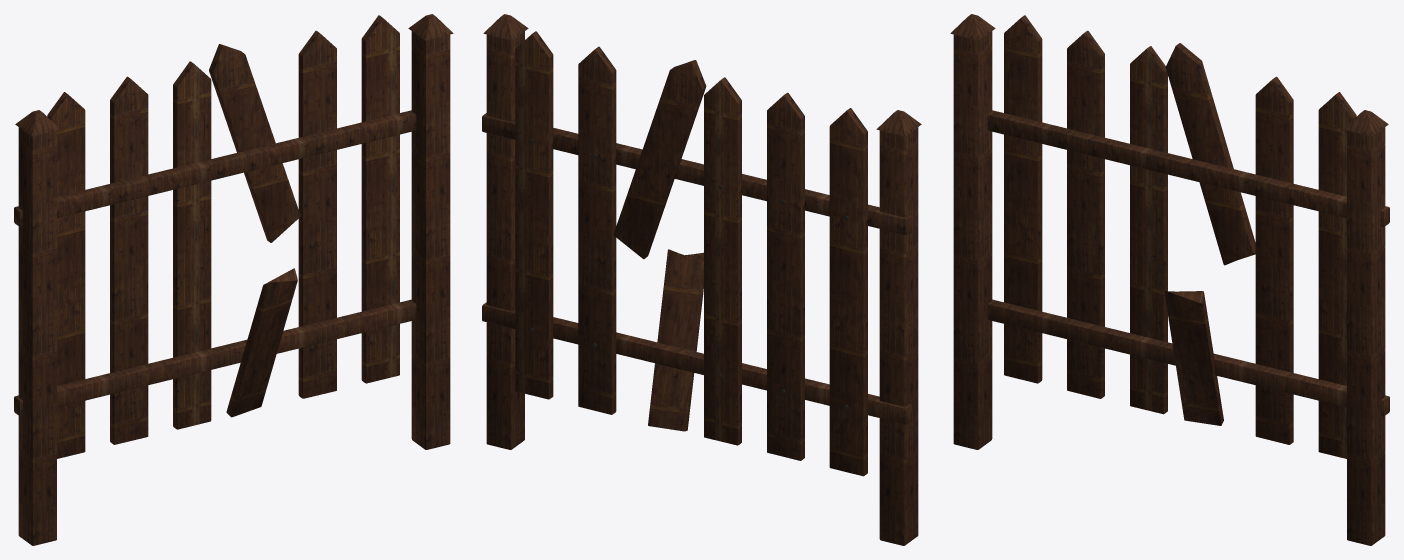
Rendered from fence.glb.
3 views of the same model, side by side, from view 1: azimuth 30°, elevation 25°; view 2: azimuth 150°, elevation 25°; view 3: azimuth 330°, elevation 25° (orthographic).
Visible parts, largest first — view 1: FenceWood; view 2: FenceWood; view 3: FenceWood.
Part boxes in pixels (x1,y1,x2,y2): FenceWood: (14,14,453,545); FenceWood: (482,14,921,545); FenceWood: (950,14,1389,545).
Bounding box in the file's own units: 2.7 × 2.66 × 0.4082.
2 materials, 1 textured.
